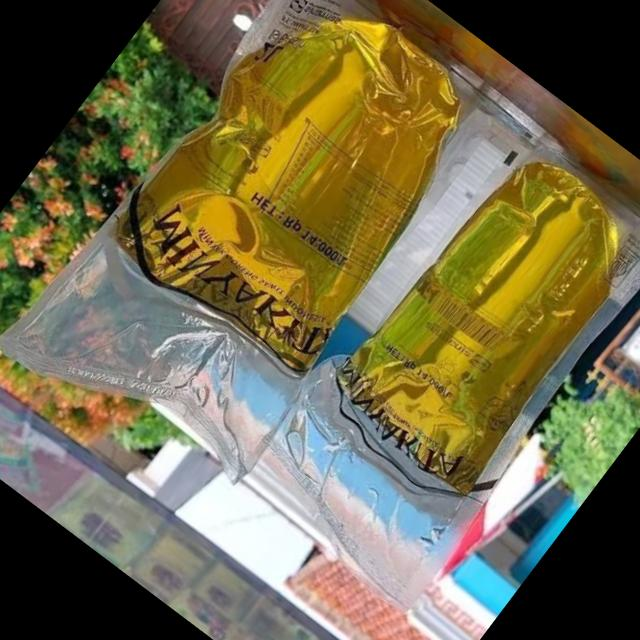KemasanPlastik: (0, 0, 523, 526), (209, 95, 640, 626)
